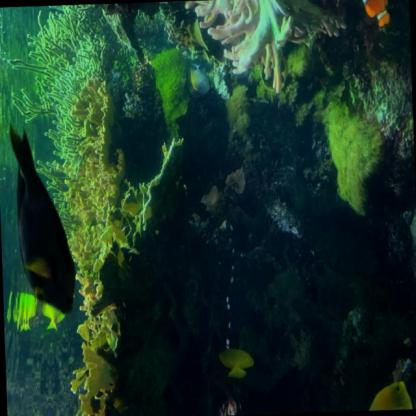fish: (5, 121, 78, 318), (367, 378, 414, 410), (218, 346, 254, 380), (354, 0, 393, 30), (41, 292, 69, 331), (189, 61, 212, 97)
